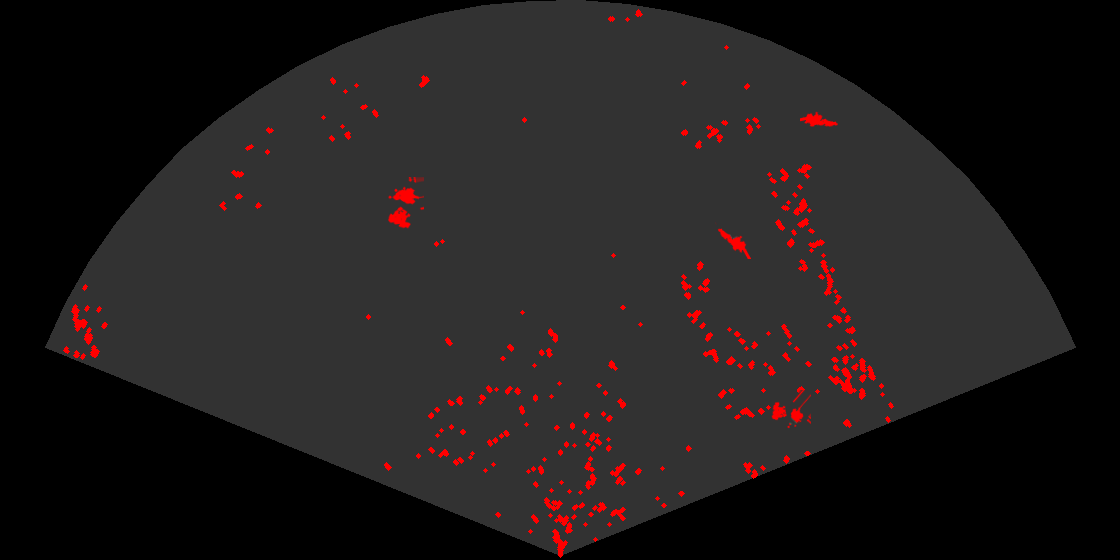cage: (386, 177, 424, 230), (770, 390, 811, 430)
frogman: (715, 221, 751, 259), (800, 110, 838, 128)
